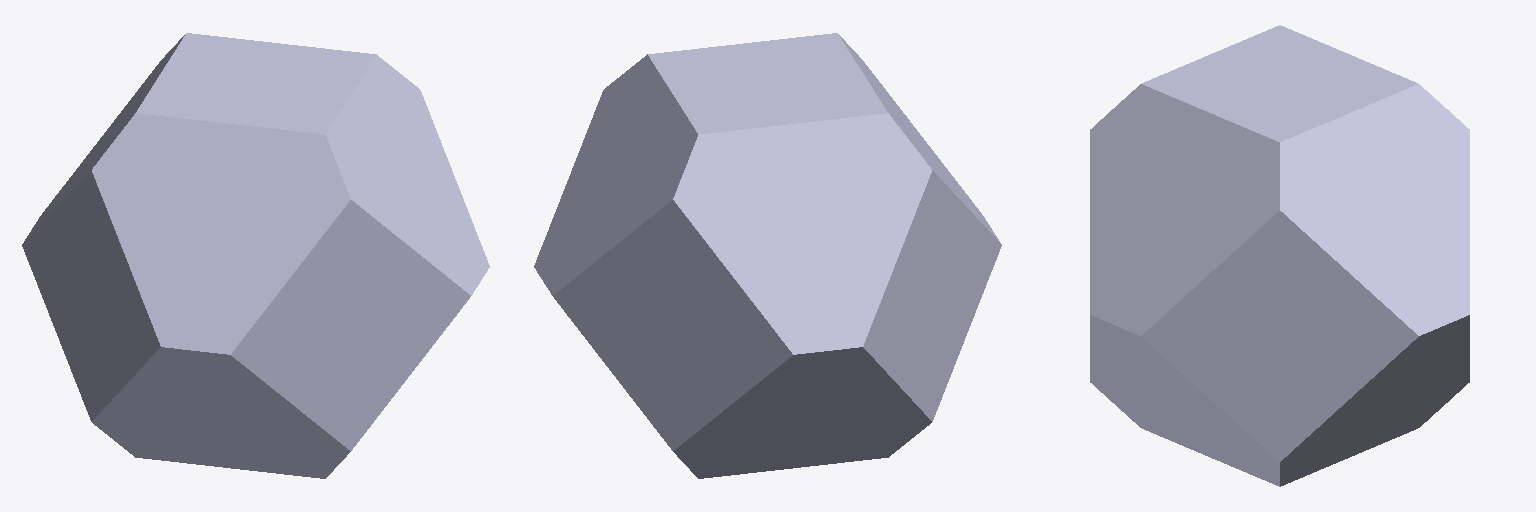
File: fluorite-cuboctahedron.obj
3 views of the same model, side by side, from view 1: azimuth 30°, elevation 25°; view 2: azimuth 150°, elevation 25°; view 3: azimuth 270°, elevation 25° (orthographic).
Size of the model in its own units: 2 by 2 by 2.